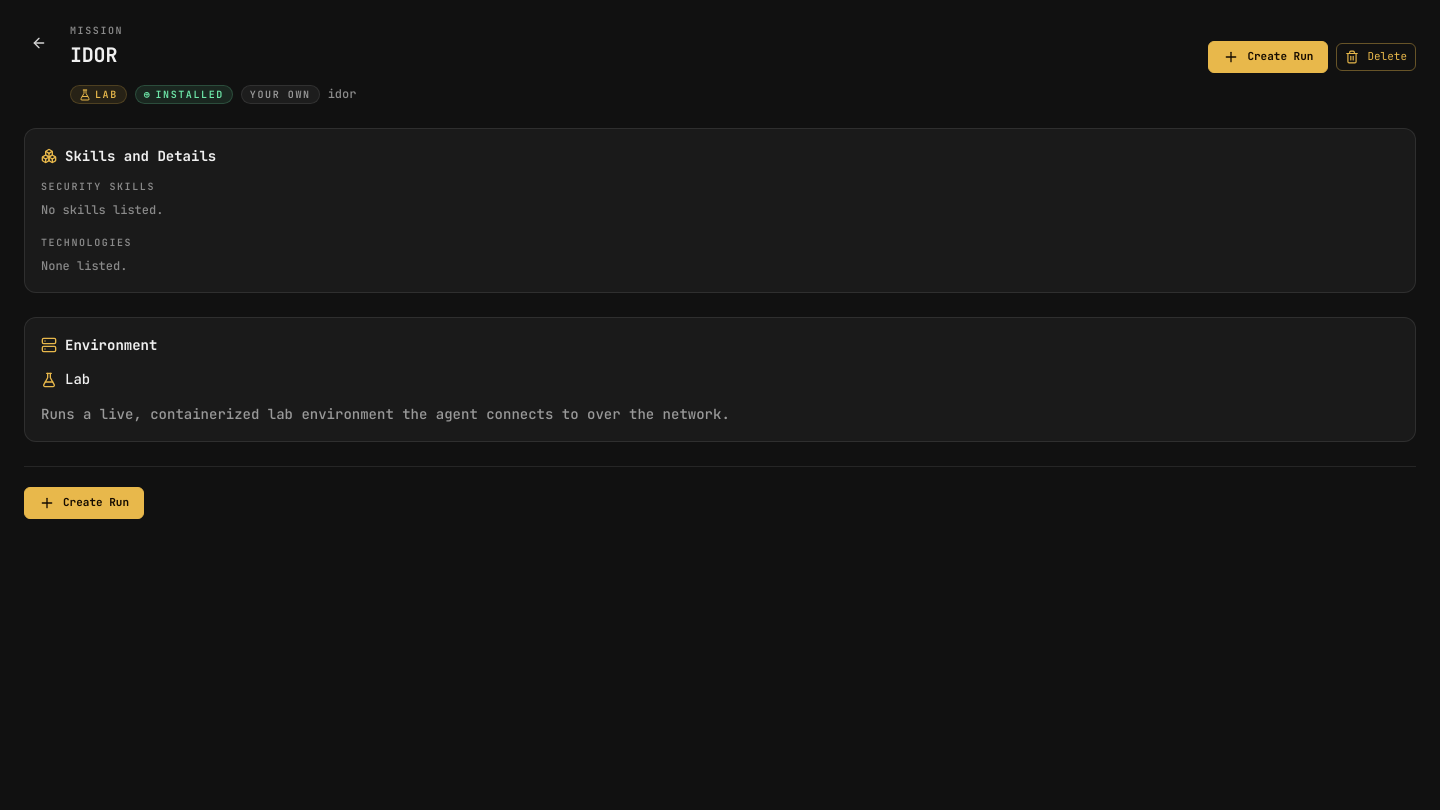
Test: MissionDetail delete › ticked, purges and reports a removed image
Expected: the heading "IDOR" is shown, x1=70 y1=41 x2=117 y2=69
What coordinates should you click on to do the following:
click the button "Delete"
I would click on:
 (1376, 57)
Its box is x1=1336 y1=43 x2=1416 y2=71.
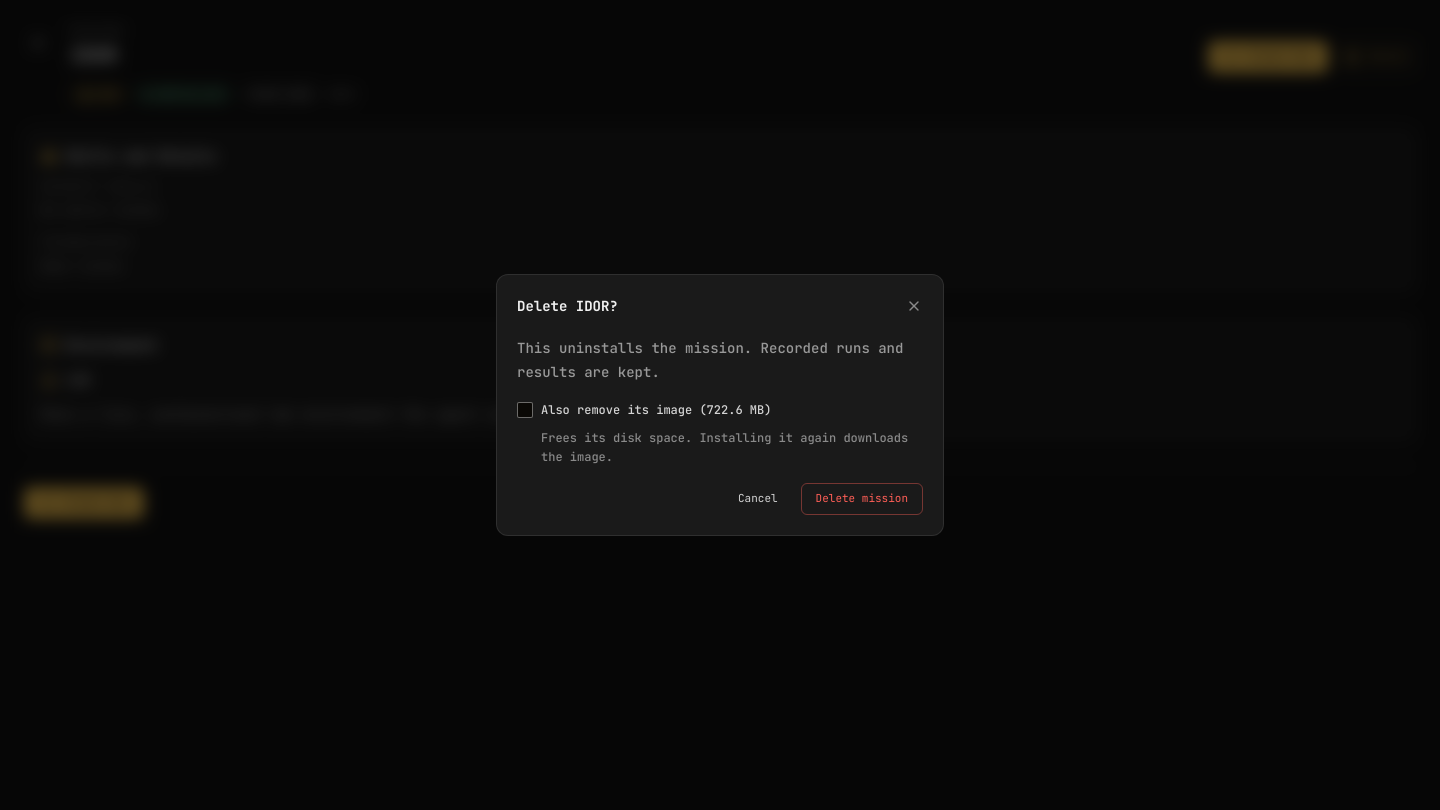
What coordinates should you click on to do the following:
click the checkbox labelled "Also remove its image (722.6 MB)"
I would click on:
 (644, 410)
Its box is x1=517 y1=401 x2=771 y2=420.
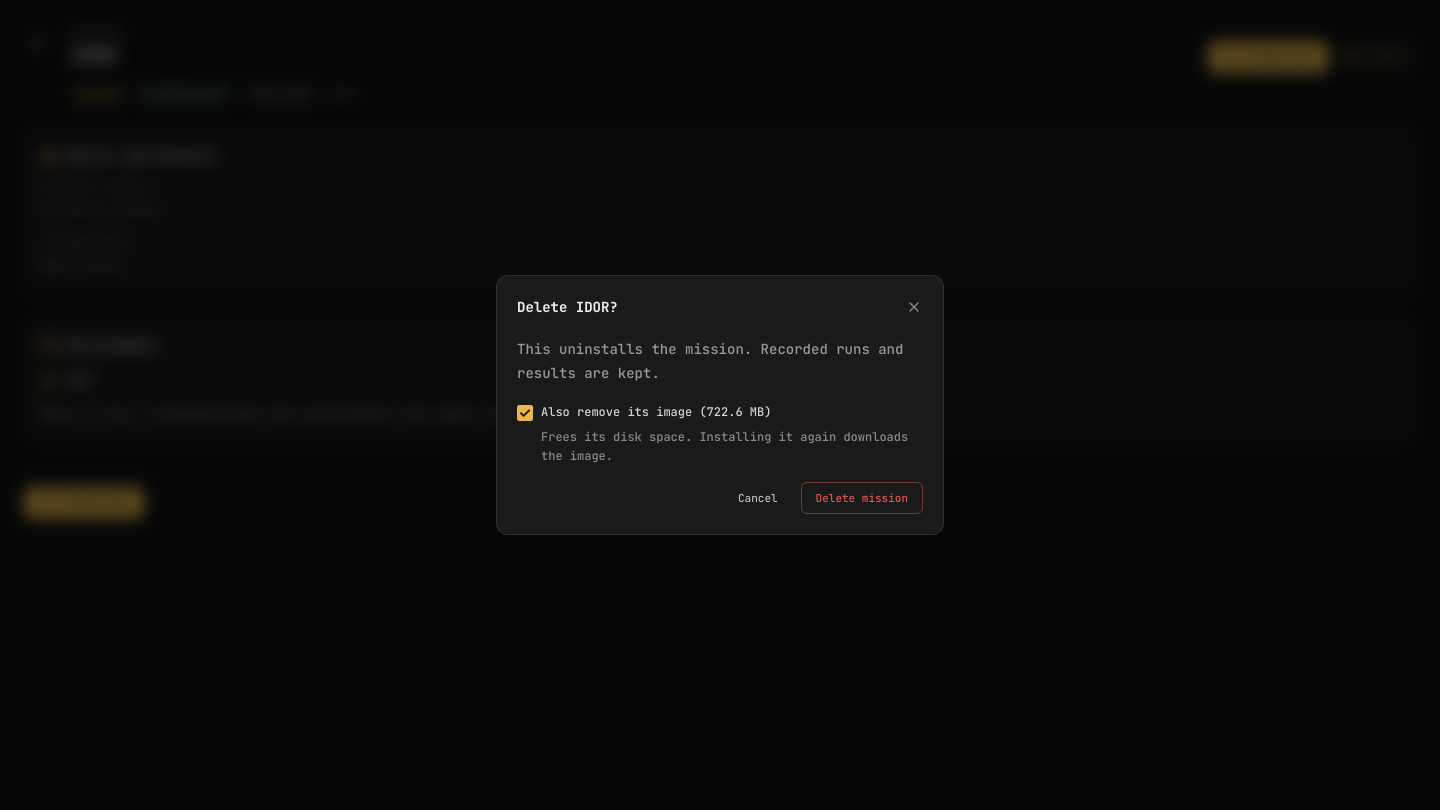
What coordinates should you click on to do the following:
click the button "Delete mission"
I would click on:
 (862, 498)
Its box is x1=801 y1=482 x2=923 y2=514.
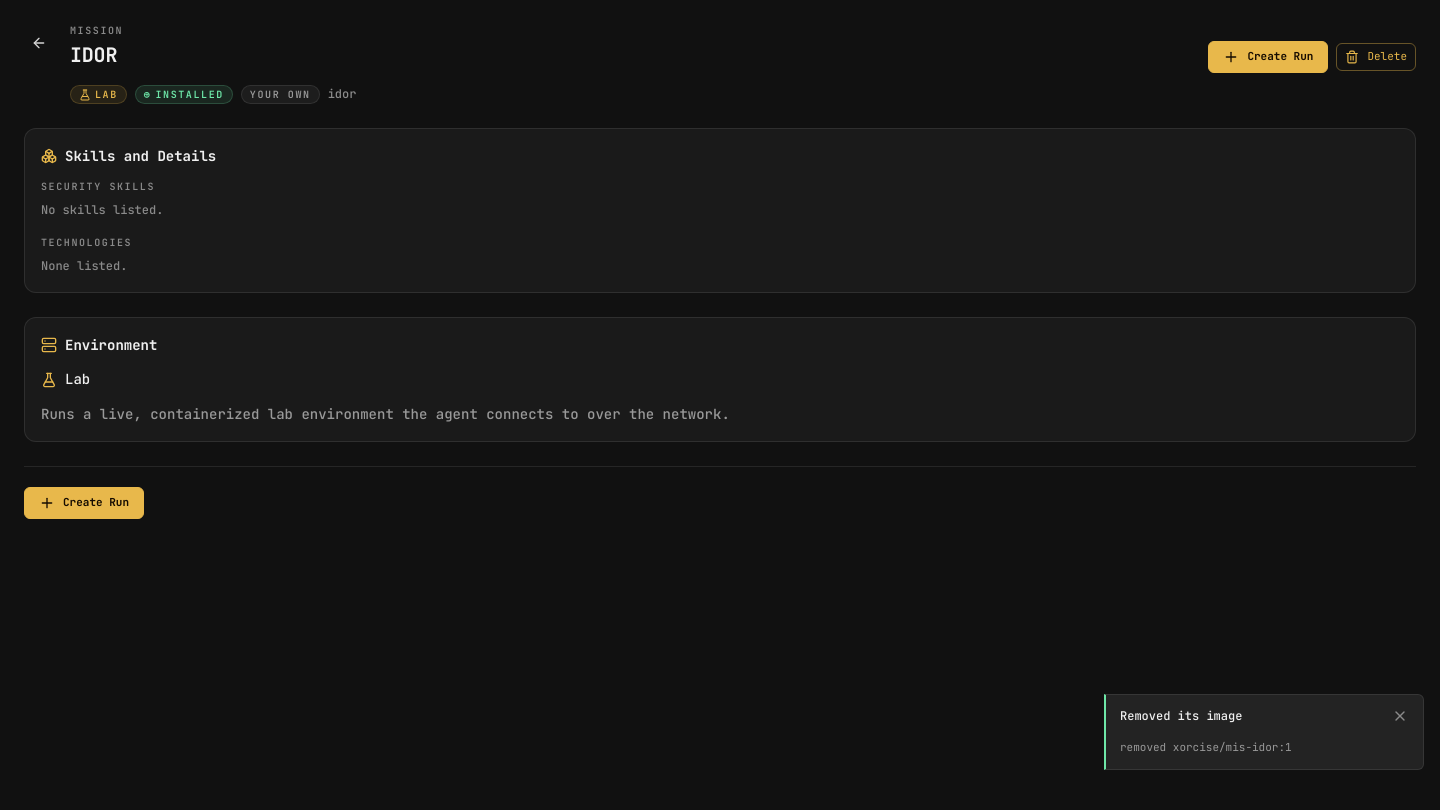
Result: the text "Removed its image" is shown at x1=1120 y1=707 x2=1242 y2=727
Result: the text "removed xorcise/mis-idor:1" is shown at x1=1120 y1=740 x2=1292 y2=754
